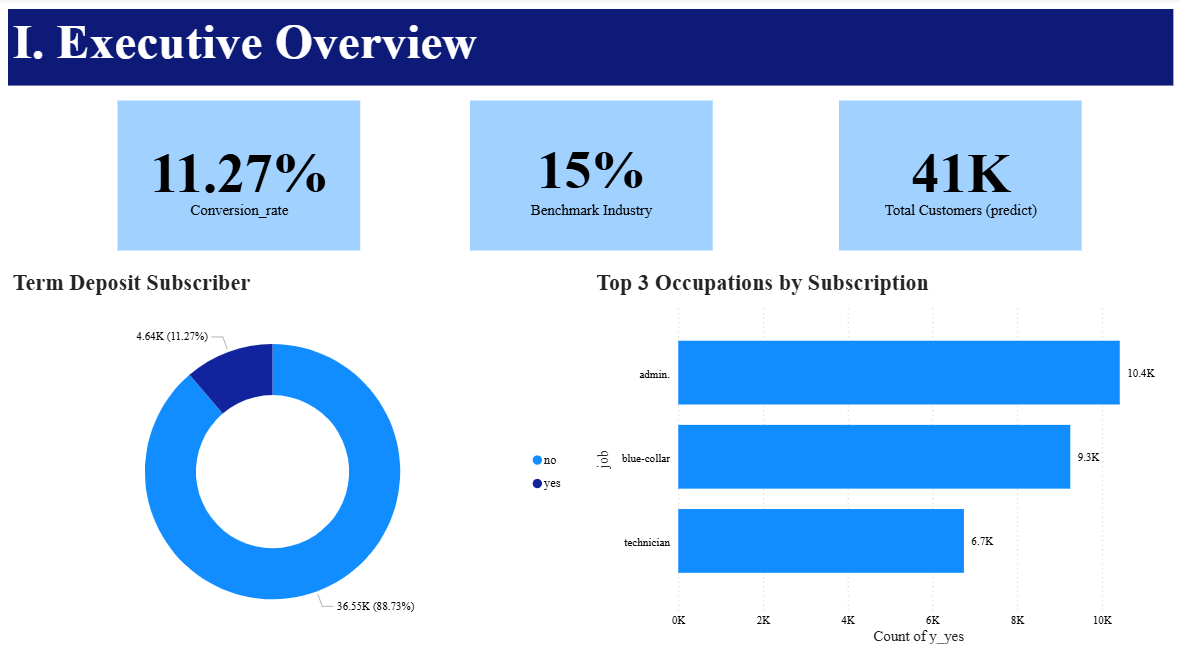

This screenshot's page, from the dashboard's own definition file:
{"tool":"powerbi","page":{"name":"I. Executive Overview","canvas":[1280,720],"ordinal":0},"visuals":[{"type":"textbox","box":[9.7,13,1258.1,82.6],"z":0},{"type":"donutChart","title":"Term Deposit Subscriber","fields":{"Category":["bank-additional-full_cleaned.y"],"Y":["CountNonNull(bank-additional-full_cleaned.y)"]},"box":[9.7,294.7,610.4,408],"z":1000},{"type":"card","fields":{"Values":["bank-additional-full_cleaned.Conversion_rate"]},"box":[127.9,111.7,262.3,161.9],"z":2000},{"type":"card","fields":{"Values":["bank-additional-full_cleaned.Total Customers (predict)"]},"box":[906.8,111.7,262.3,161.9],"z":3000},{"type":"clusteredBarChart","title":"Top 3 Occupations by Subscription","fields":{"Y":["CountNonNull(bank-additional-full_cleaned.y_yes)"],"Category":["bank-additional-full_cleaned.job"]},"box":[639.6,294.7,628.3,408],"z":3001},{"type":"textbox","box":[508.4,111.7,262.3,161.9],"z":3002}]}

Visuals, with their boxes in screenshot pixels (x1, y1, x2, y2), scaled from the page's 1280x720 canvas onto the 1180x660 screenshot:
textbox: 9, 12, 1169, 88
"Term Deposit Subscriber" donutChart: 9, 270, 572, 644
card - bank-additional-full_cleaned.Conversion_rate: 118, 102, 360, 251
card - bank-additional-full_cleaned.Total Customers (predict): 836, 102, 1078, 251
"Top 3 Occupations by Subscription" clusteredBarChart: 590, 270, 1169, 644
textbox: 469, 102, 710, 251
